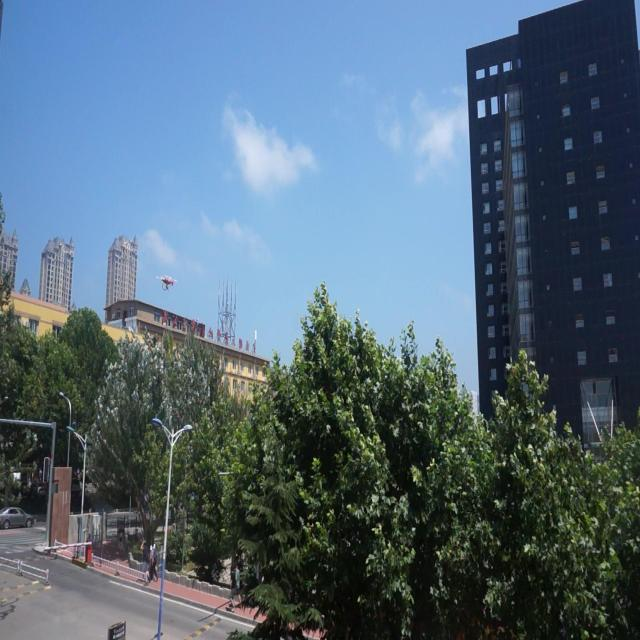drone: (156, 270, 180, 293)
